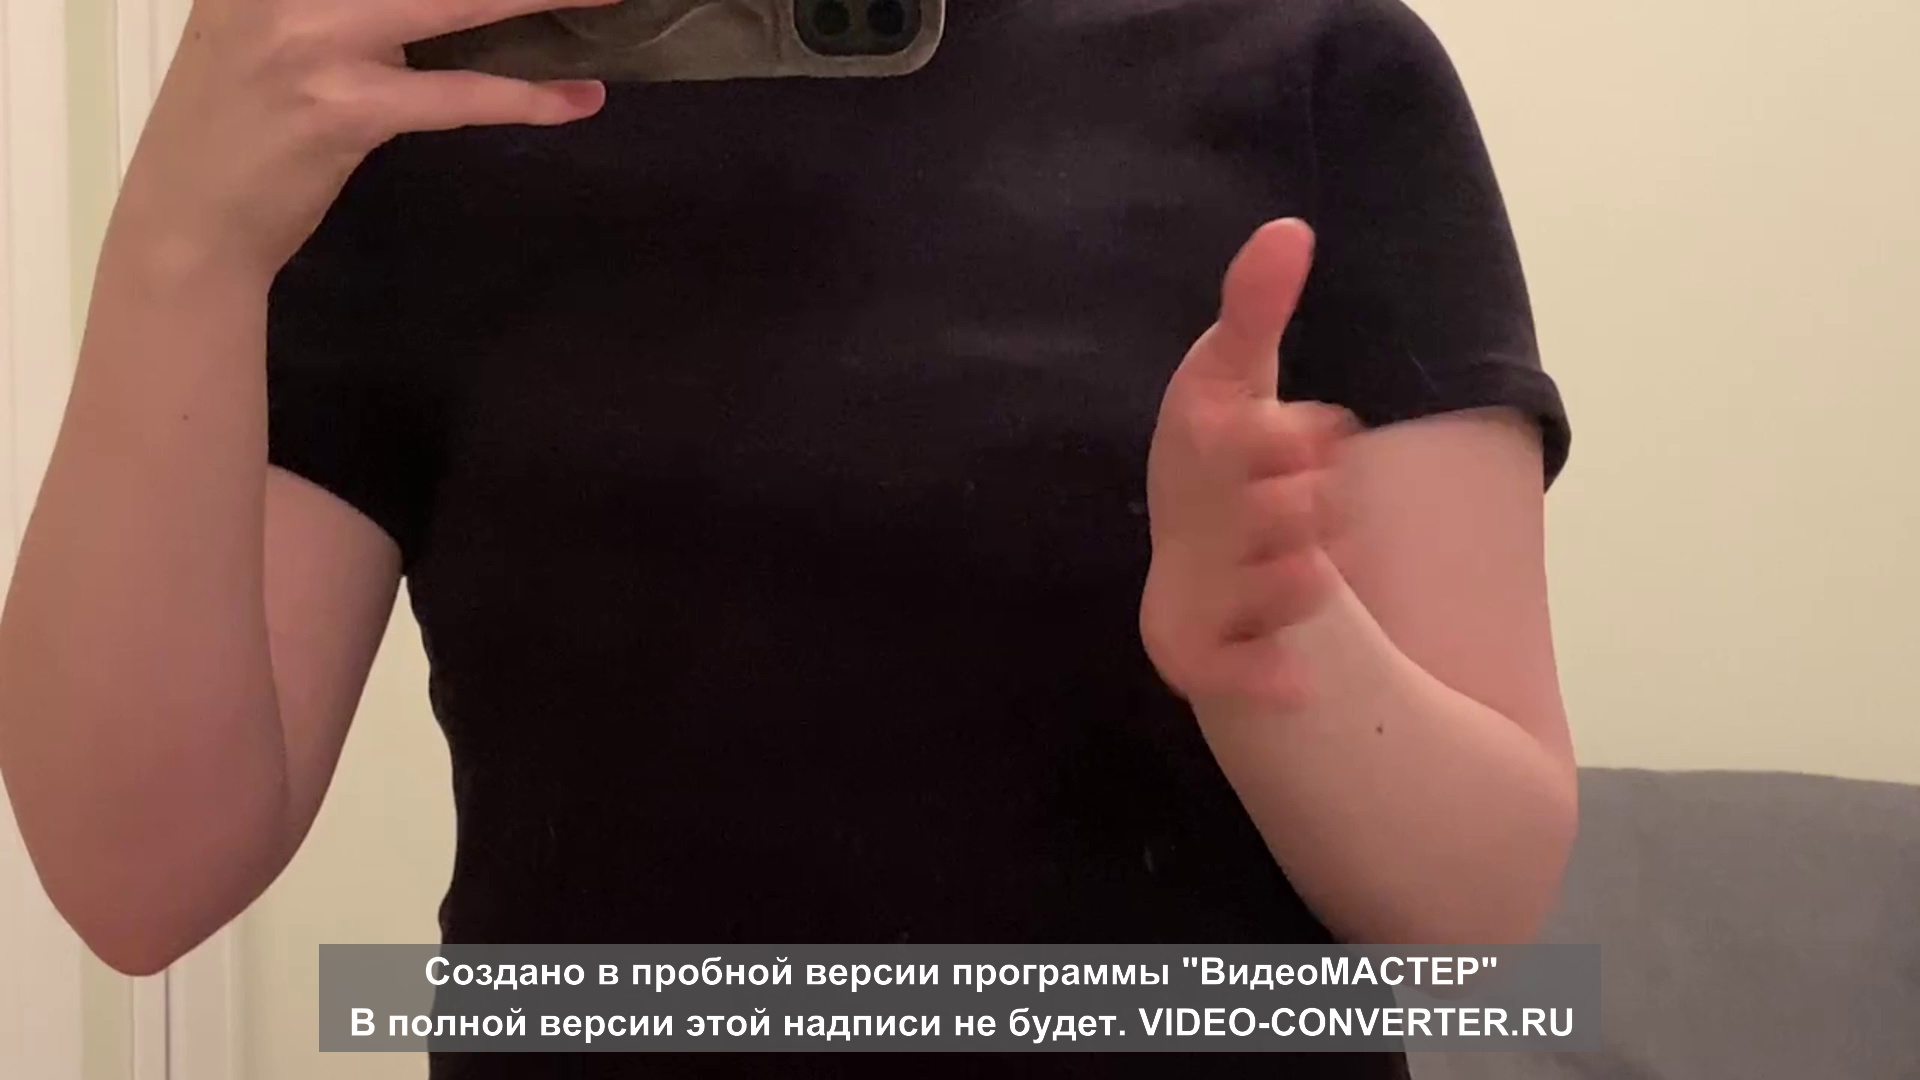Ладонь: (1138, 216, 1342, 719)
